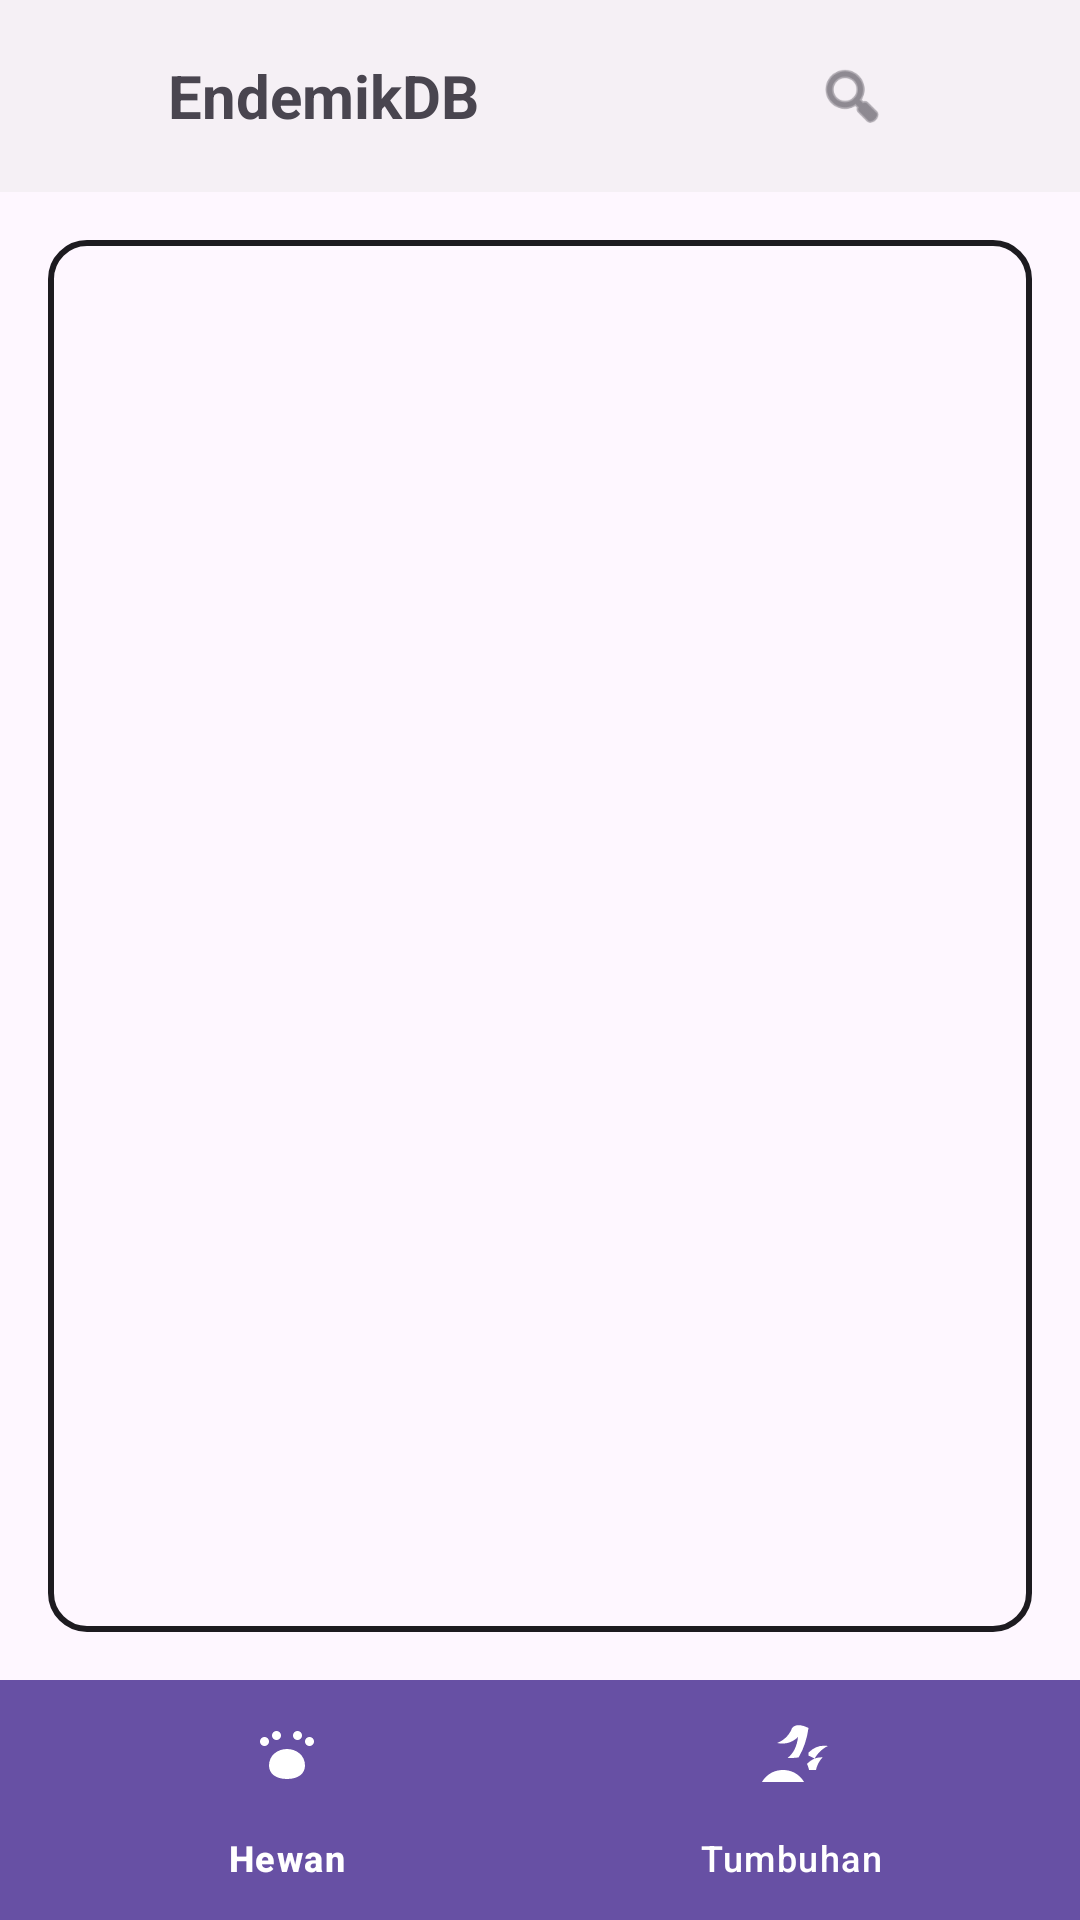

Where to tap for icons on this 1080×1920 app screen, as (x=x, y=y):
Search: (x=852, y=96)
